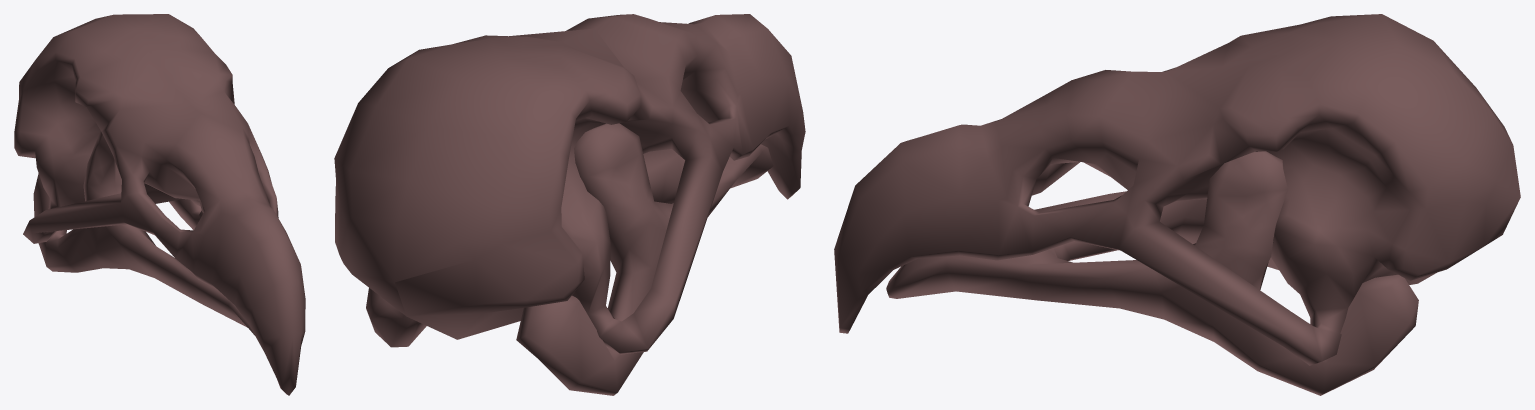
The model's file is SM_BirdSkeletonSkull.FBX.
3 renders of one model, left to right at view 1: azimuth 30°, elevation 25°; view 2: azimuth 150°, elevation 25°; view 3: azimuth 270°, elevation 25°, orthographic. The views are drawn at different scales.
Visible parts, largest first — view 1: SM_BirdSkeletonSkull; view 2: SM_BirdSkeletonSkull; view 3: SM_BirdSkeletonSkull.
Boxes of the visible parts, box(x1,y1,x2,y2) form: SM_BirdSkeletonSkull: box(14, 14, 305, 395); SM_BirdSkeletonSkull: box(334, 14, 805, 395); SM_BirdSkeletonSkull: box(834, 14, 1520, 395).
Size of the model in its own units: 57.08 by 56.89 by 114.
